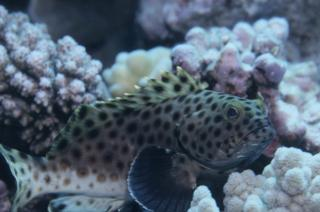Serranidae -Groupers-: (0, 62, 280, 212)
